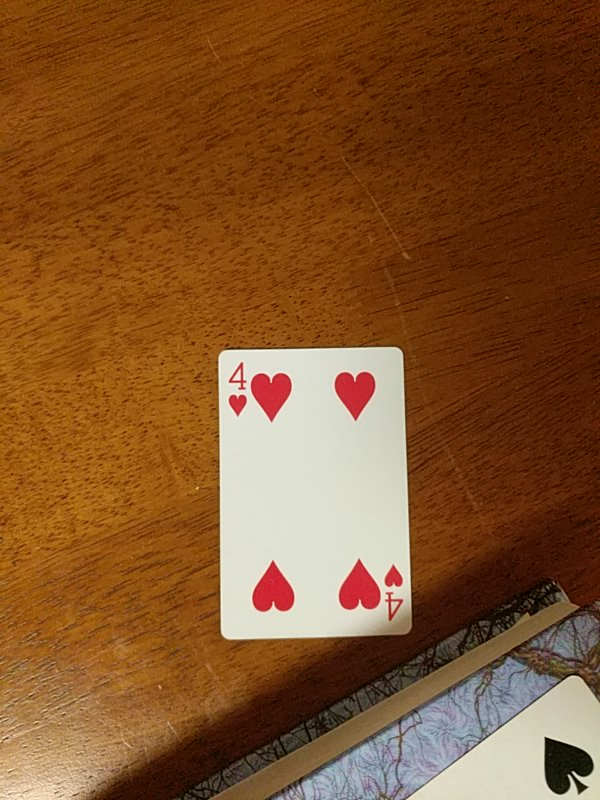Hearts: (216, 349, 413, 640)
